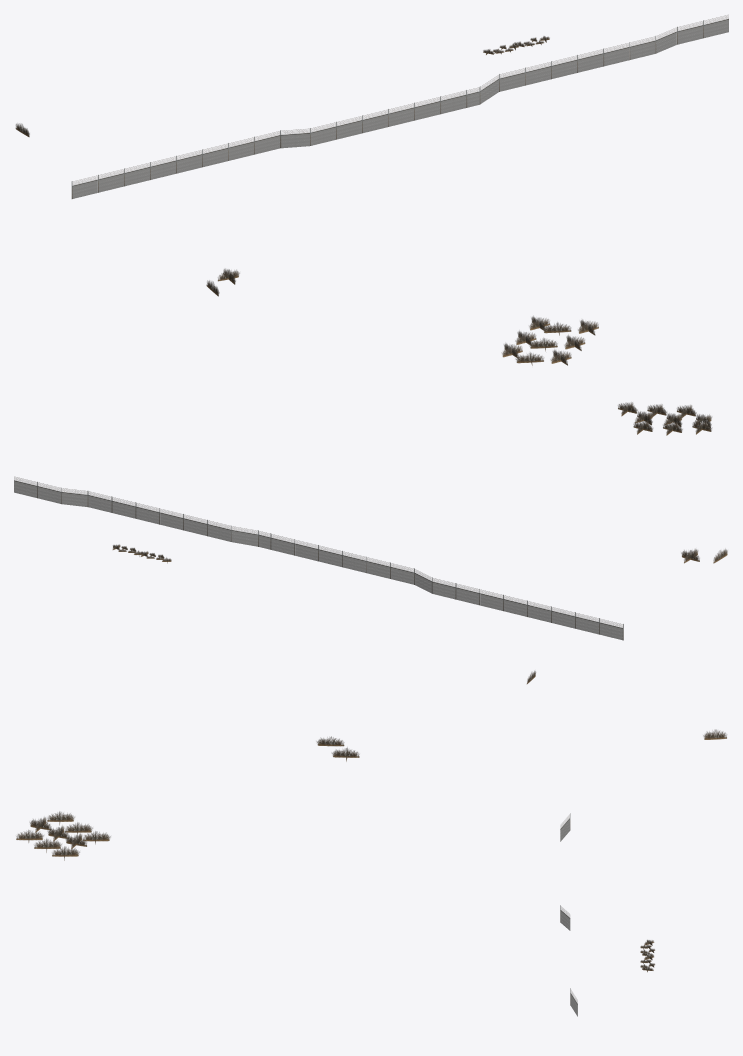
The model's file is 0303worlddeserttransparent_worlddeserttransparentmaterial_0_lev.glb.
3 renders of one model, top to bottom at view 1: azimuth 30°, elevation 25°; view 2: azimuth 150°, elevation 25°; view 3: azimuth 270°, elevation 25°, orthographic. The views are drawn at different scales.
Visible parts, largest first — view 1: 0303worlddeserttransparent_worlddeserttransparentmaterial_0_; view 2: 0303worlddeserttransparent_worlddeserttransparentmaterial_0_; view 3: 0303worlddeserttransparent_worlddeserttransparentmaterial_0_.
Part boxes in pixels (x1,y1,x2,y2): 0303worlddeserttransparent_worlddeserttransparentmaterial_0_: (15,14,728,365); 0303worlddeserttransparent_worlddeserttransparentmaterial_0_: (14,402,727,683); 0303worlddeserttransparent_worlddeserttransparentmaterial_0_: (16,729,726,1016).
Size of the model in its own units: 32.42 by 1.43 by 31.3.
Materials: 1 (1 with a texture image).
